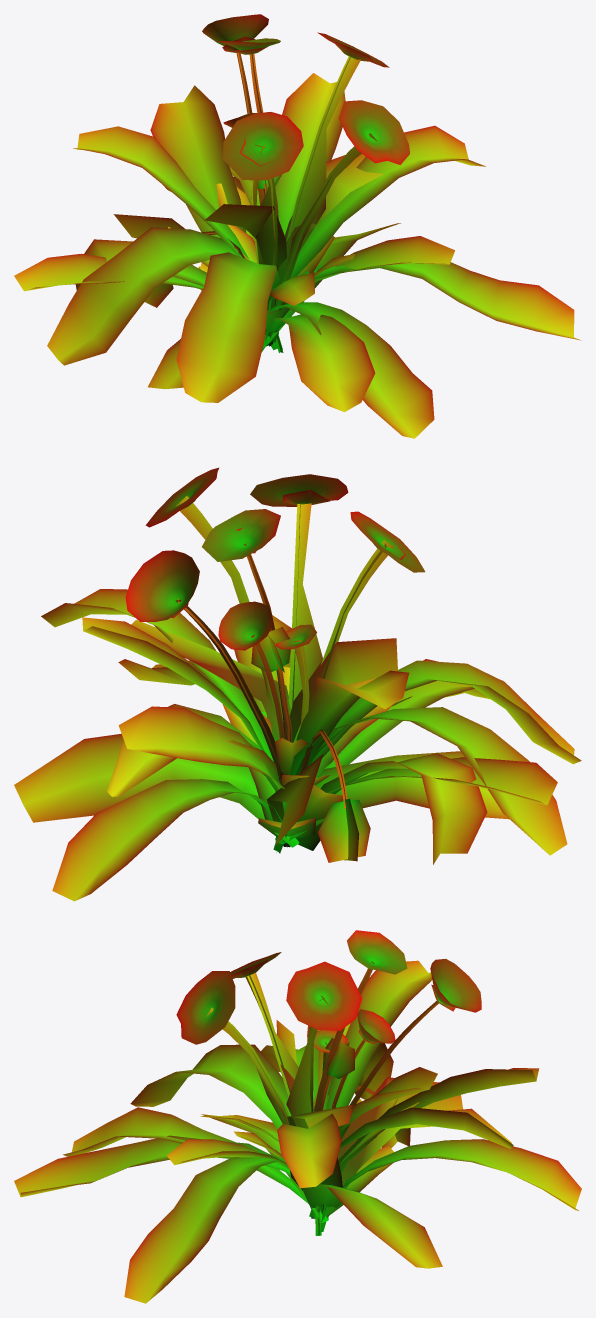
File: Cape Weed_LOD0_Var1_tjmhfcyia.fbx
3 views of the same model, one above another, from view 1: azimuth 30°, elevation 25°; view 2: azimuth 150°, elevation 25°; view 3: azimuth 270°, elevation 25° (orthographic). The views are drawn at different scales.
Visible parts, largest first — view 1: _b798_Var1_LOD0; view 2: _b798_Var1_LOD0; view 3: _b798_Var1_LOD0.
Part boxes in pixels (x1,y1,x2,y2): _b798_Var1_LOD0: (14,14,581,438); _b798_Var1_LOD0: (14,467,581,901); _b798_Var1_LOD0: (14,930,581,1303).
Size of the model in its own units: 44.07 by 28.06 by 48.59.
